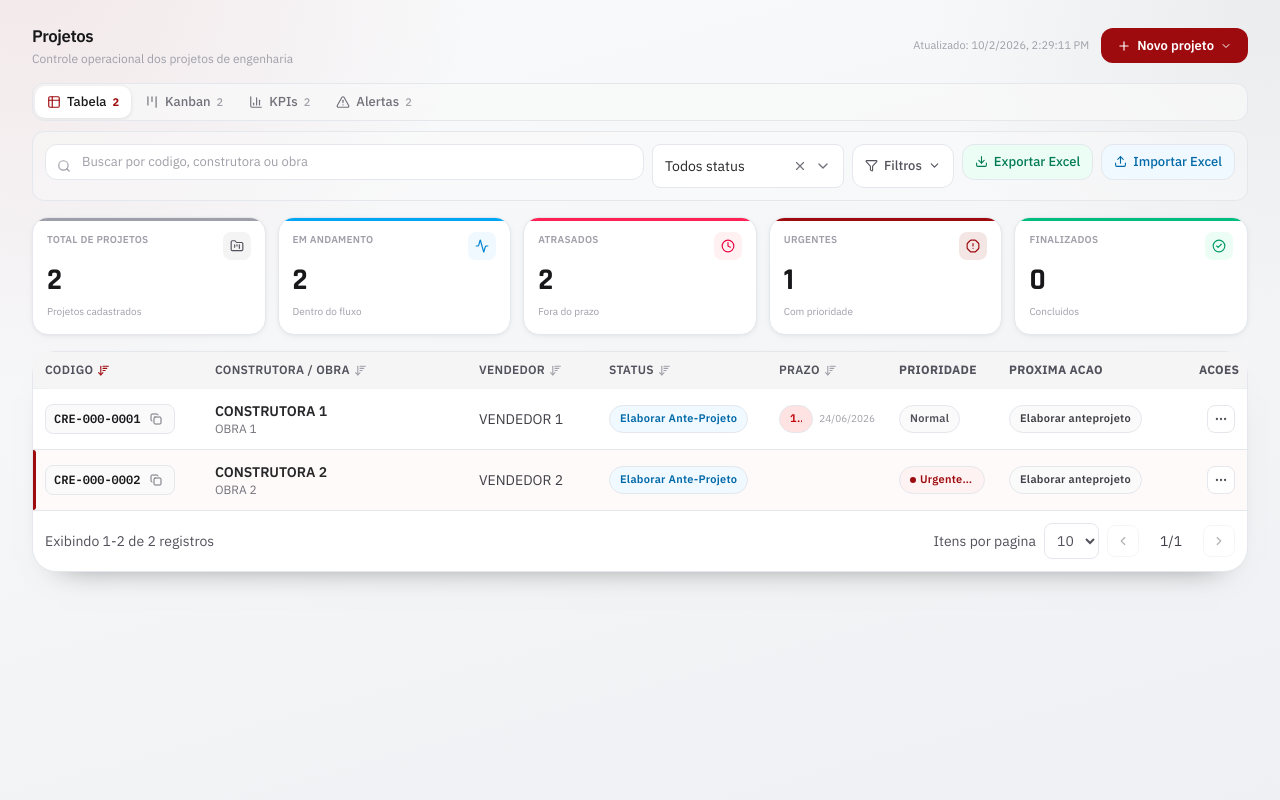
Test: perfis com projects.markUrgent — ação disponível como antes › ADMIN: marcar abre o diálogo de prazo
Click the button named "Abrir acoes do projeto" in the row of "CRE-000-0001" at (1221, 419), box [1207,405,1235,433]
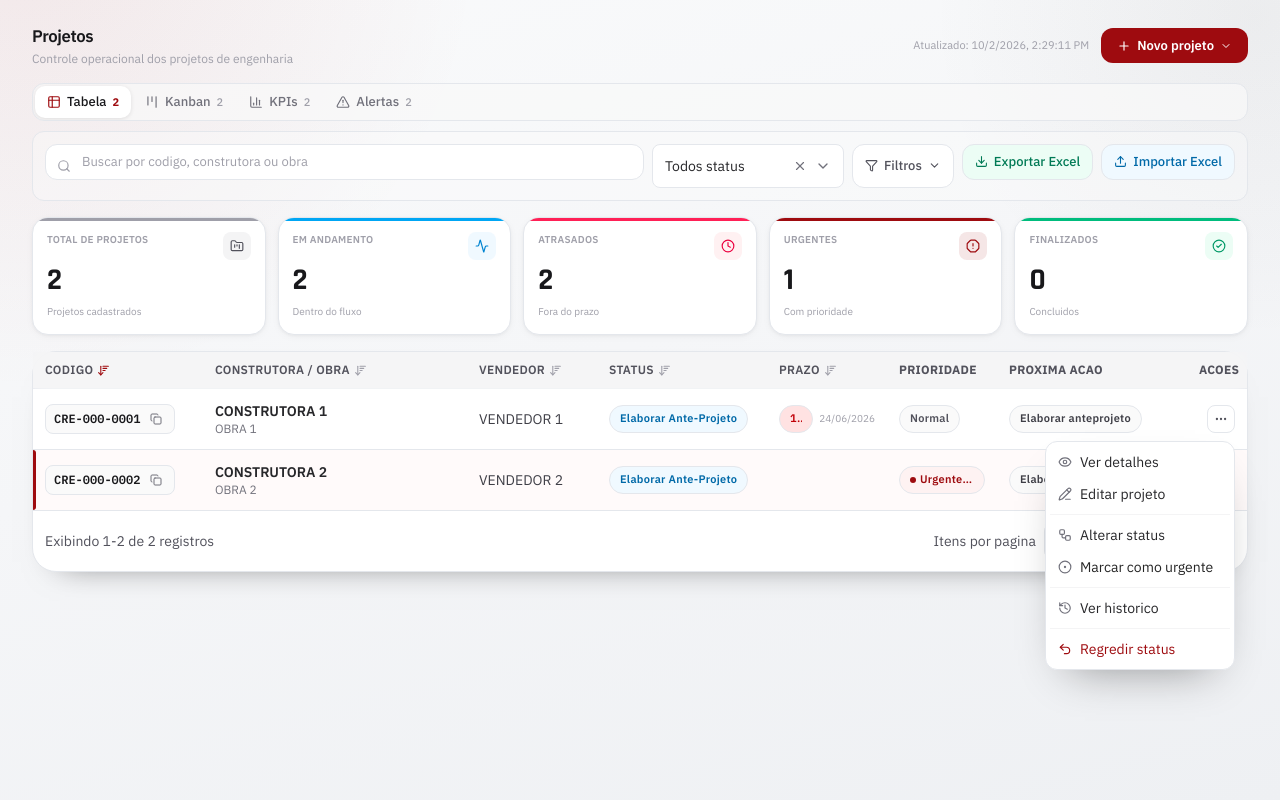
Click the menu item "Marcar como urgente" at (1136, 567), box [1058,558,1213,576]
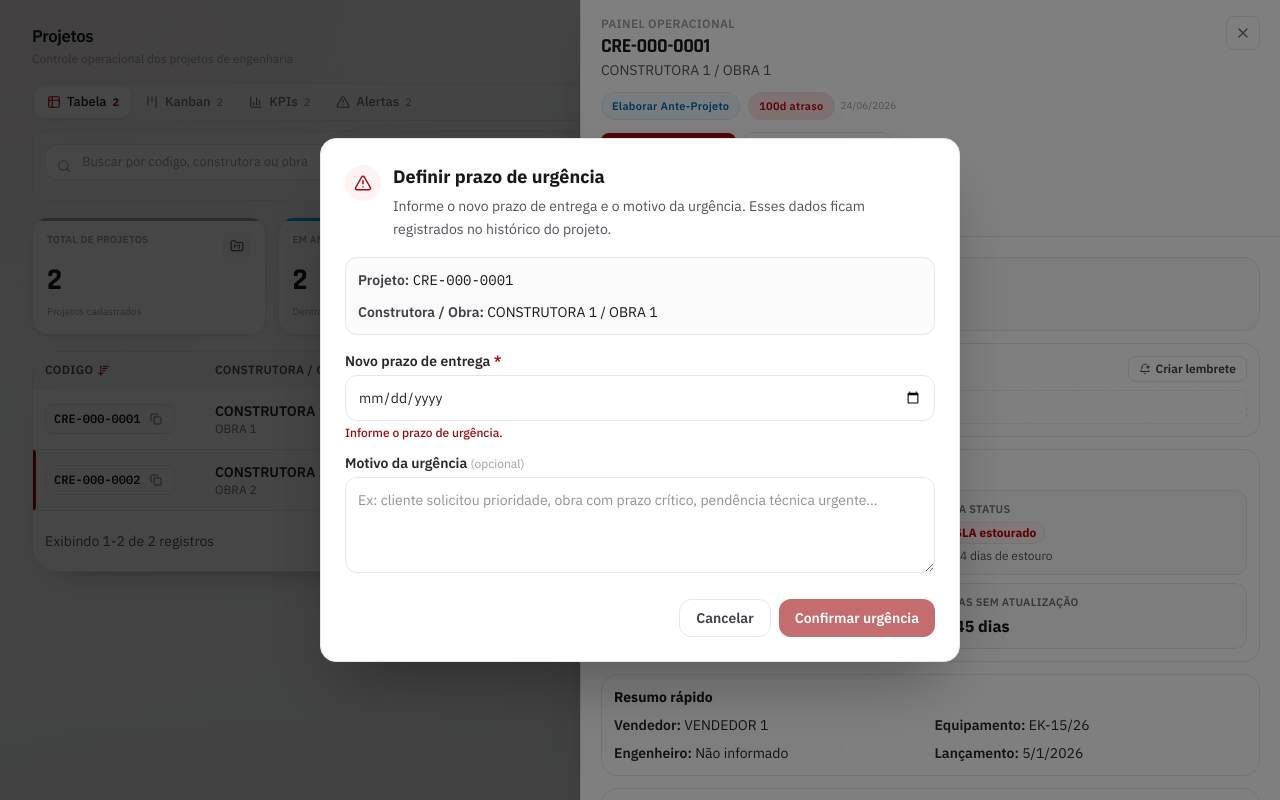
Result: the element with test id "urgency-deadline-dialog" is shown
